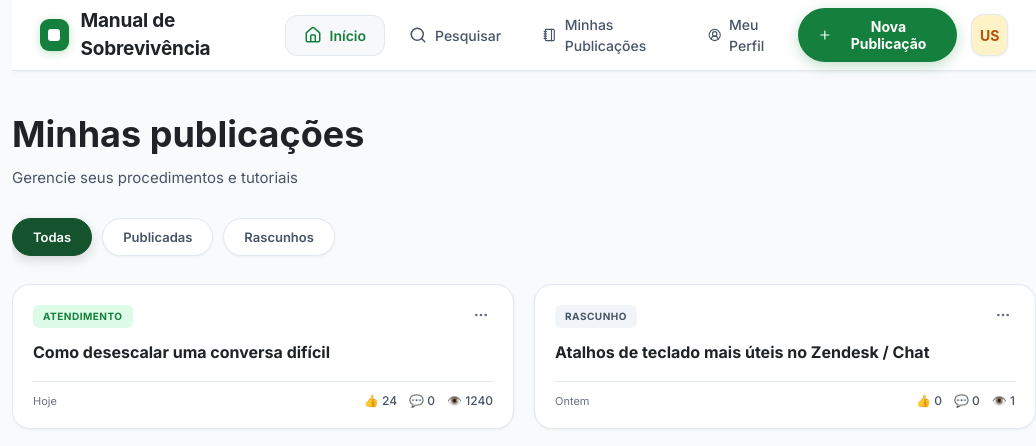
Test: Profile and MyPublications Pages › MyPublications filtra publicações entre Todas, Rascunhos e Publicadas
The image size is (1036, 446).
Expected: the heading "Minhas publicações" is shown, x1=12 y1=107 x2=364 y2=161
Expected: the heading "Como desescalar uma conversa difícil" is shown, x1=33 y1=342 x2=330 y2=362
Filtra por Rascunhos
Click the button "Rascunhos": coordinates (279, 236) x1=223 y1=218 x2=335 y2=256
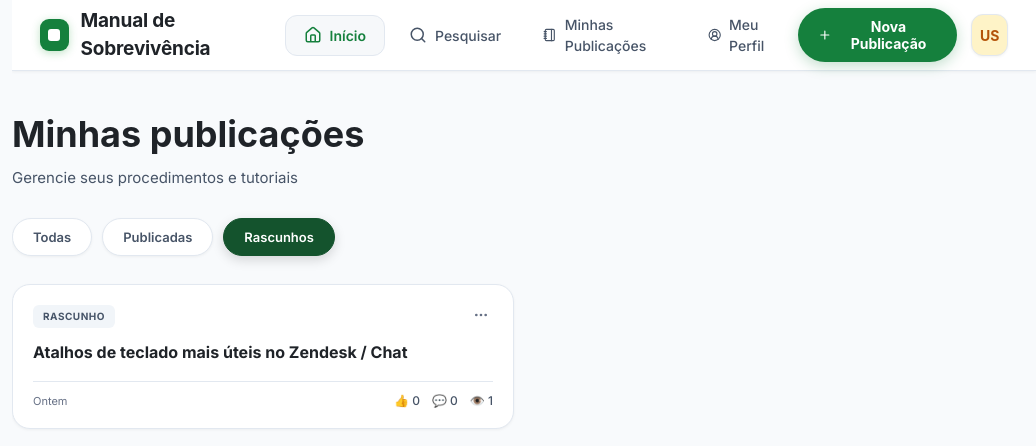
Expected: the heading "Atalhos de teclado mais úteis no Zendesk / Chat" is shown, x1=33 y1=342 x2=408 y2=362
Now the heading "Como desescalar uma conversa difícil" is gone
Filtra por Publicadas
Click the button "Publicadas": coordinates (158, 236) x1=102 y1=218 x2=213 y2=256
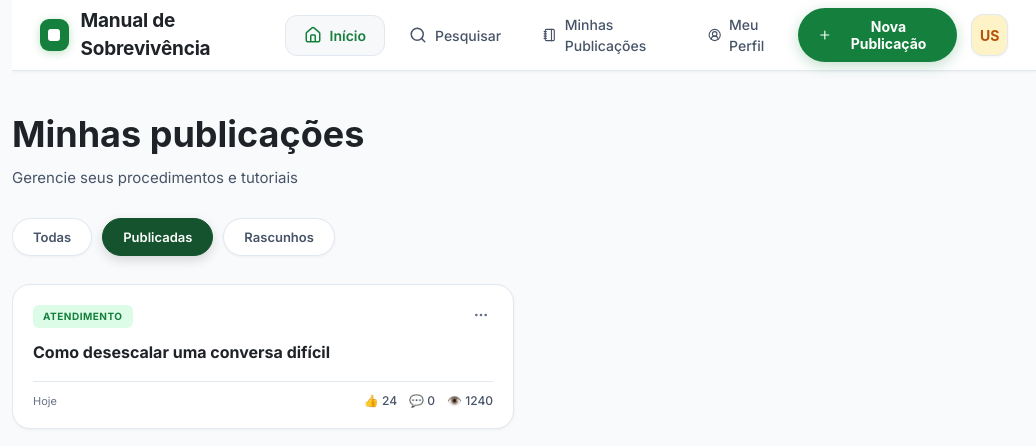
Now the heading "Como desescalar uma conversa difícil" is shown, box x1=33 y1=342 x2=330 y2=362
Now the heading "Atalhos de teclado mais úteis no Zendesk / Chat" is gone
